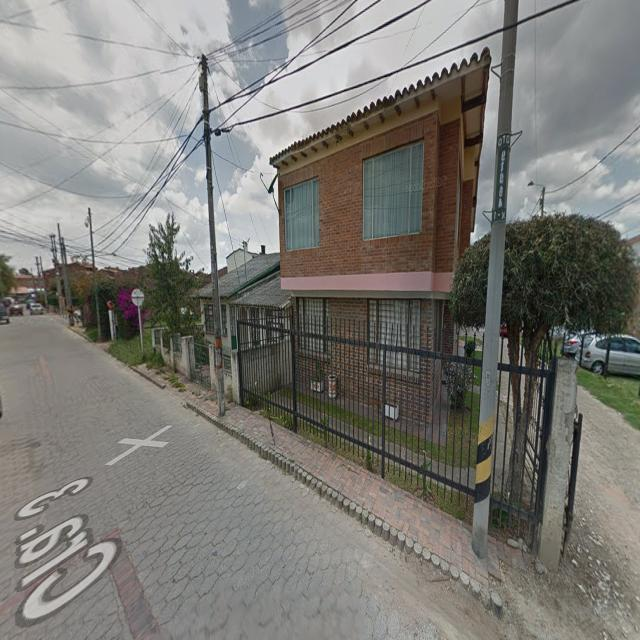Fachada: (270, 48, 491, 429), (199, 242, 280, 392), (232, 272, 295, 399)
Poste: (472, 0, 518, 558), (200, 54, 226, 416), (86, 207, 102, 341), (59, 223, 73, 315), (50, 234, 66, 309)
